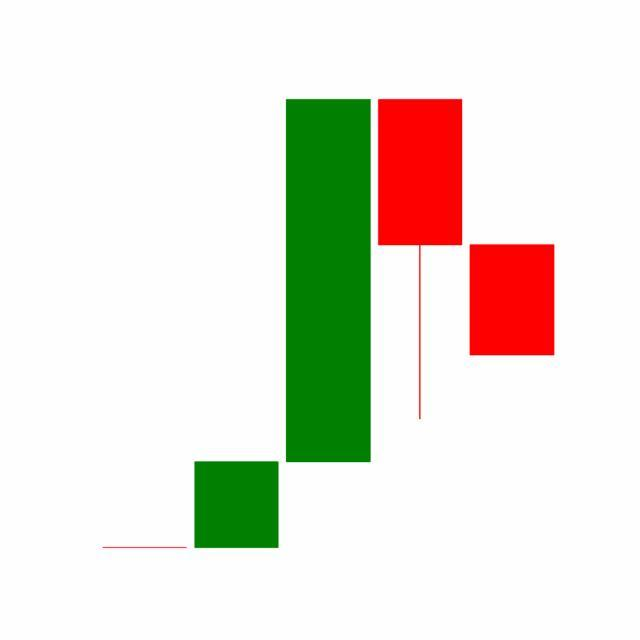Marubozu: (466, 244, 559, 357)
